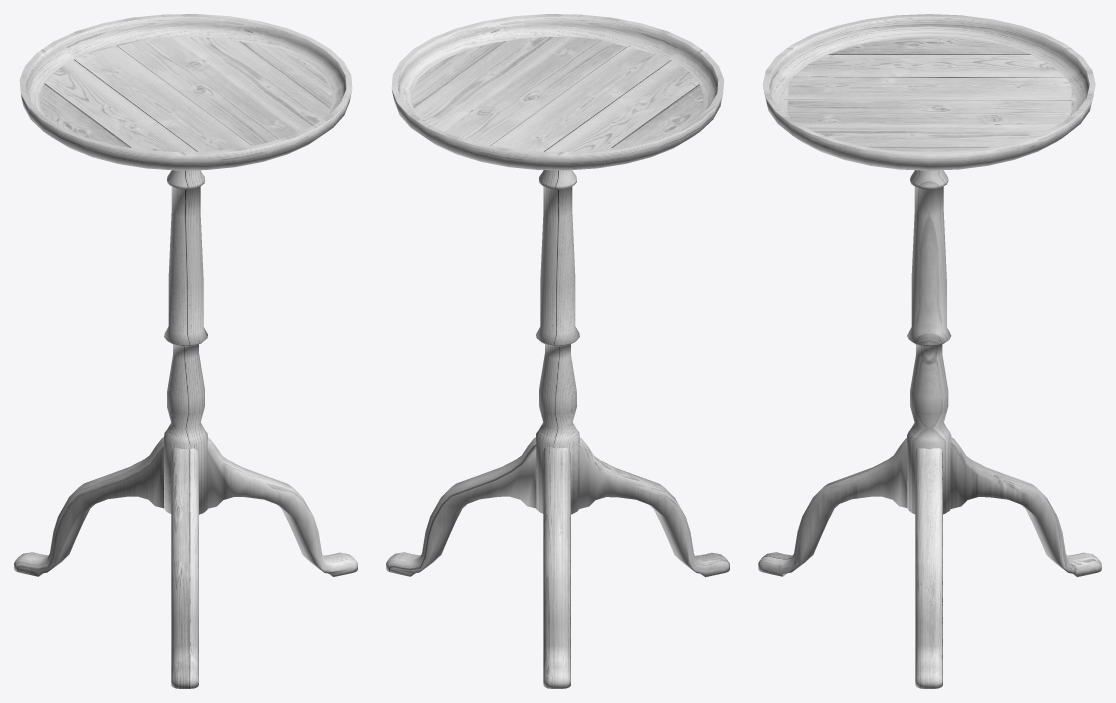
File: robot_base.dae
3 views of the same model, side by side, from view 1: azimuth 30°, elevation 25°; view 2: azimuth 150°, elevation 25°; view 3: azimuth 270°, elevation 25° (orthographic).
Visible parts, largest first — view 1: sgabello; view 2: sgabello; view 3: sgabello.
Part boxes in pixels (box(x1,y1,x2,y2)): sgabello: box(14, 14, 357, 688); sgabello: box(386, 14, 729, 688); sgabello: box(758, 14, 1101, 688).
Size of the model in its own units: 0.46 by 0.438 by 0.735.
1 material, 1 textured.
